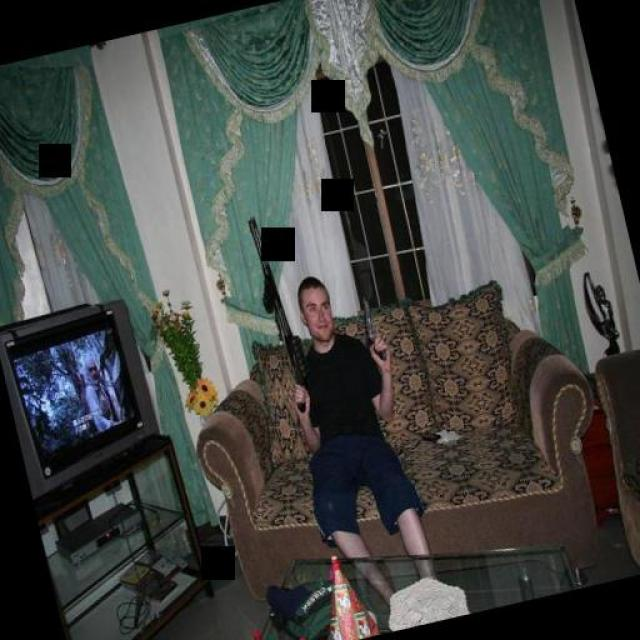gun: (352, 290, 392, 366)
